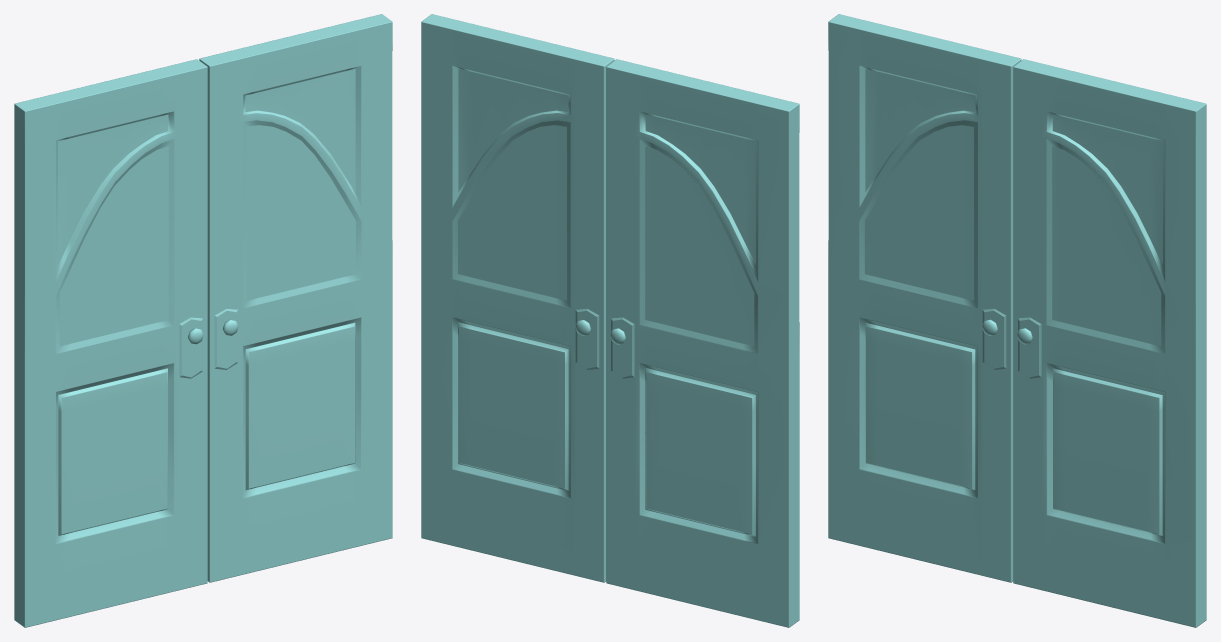
File: FYP_asset_diningRoom_doubleDoor.fbx
3 renders of one model, left to right at view 1: azimuth 30°, elevation 25°; view 2: azimuth 150°, elevation 25°; view 3: azimuth 330°, elevation 25°, orthographic.
Visible parts, largest first — view 1: door_02, door_01; view 2: door_02, door_01; view 3: door_01, door_02.
Boxes of the visible parts, x1,y1,x2,y2 form: door_02: (14, 59, 207, 627); door_01: (199, 14, 392, 582); door_02: (606, 59, 799, 627); door_01: (421, 14, 614, 582); door_01: (1013, 59, 1206, 627); door_02: (828, 14, 1021, 582).
Size of the model in its own units: 60.3 by 80.91 by 6.88.
